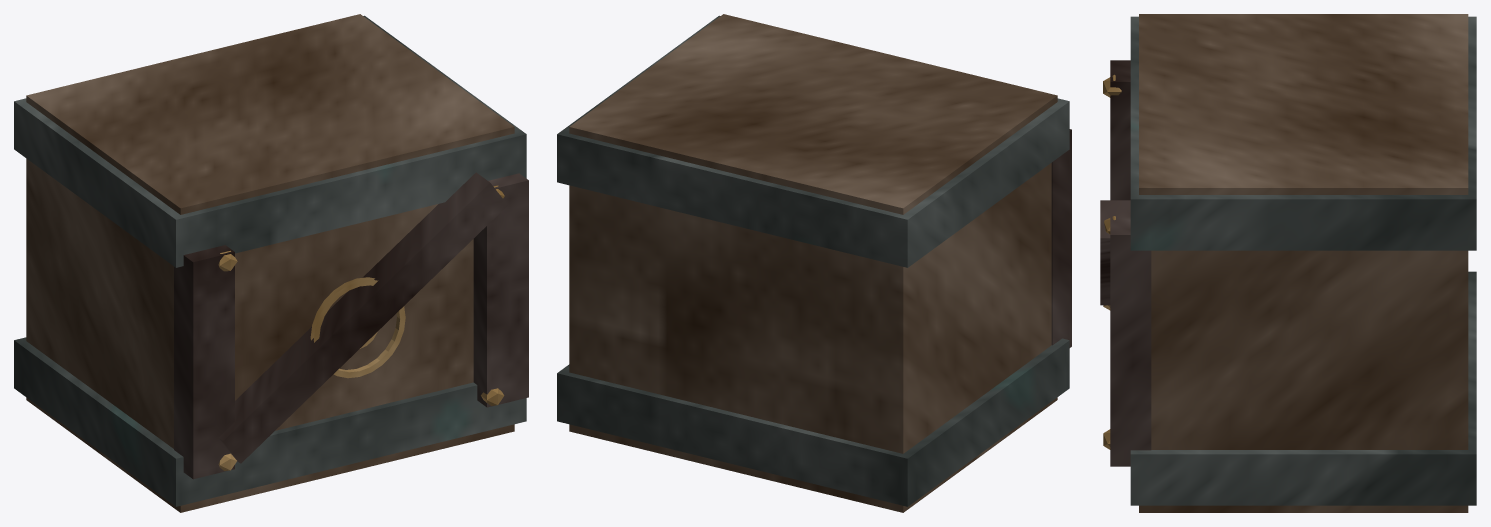
The model's file is 0740_supply_crate_15.glb.
3 views of the same model, side by side, from view 1: azimuth 30°, elevation 25°; view 2: azimuth 150°, elevation 25°; view 3: azimuth 270°, elevation 25° (orthographic). The views are drawn at different scales.
Parts seen in each view (by area): view 1: wood, iron, wood_dark, brass; view 2: wood, iron, wood_dark; view 3: wood, iron, wood_dark, brass.
Part boxes in pixels (x1=…): wood: x1=26, y1=14, x2=514, y2=512; iron: x1=14, y1=15, x2=526, y2=506; wood_dark: x1=174, y1=172, x2=528, y2=479; brass: x1=218, y1=185, x2=504, y2=470; wood: x1=569, y1=14, x2=1057, y2=512; iron: x1=557, y1=15, x2=1069, y2=506; wood_dark: x1=1051, y1=129, x2=1071, y2=347; wood: x1=1139, y1=14, x2=1468, y2=512; iron: x1=1130, y1=16, x2=1476, y2=505; wood_dark: x1=1100, y1=60, x2=1151, y2=466; brass: x1=1103, y1=74, x2=1121, y2=449.
Size of the model in its own units: 0.8393 by 0.6964 by 0.7304.
Materials: 4 (4 with a texture image).
